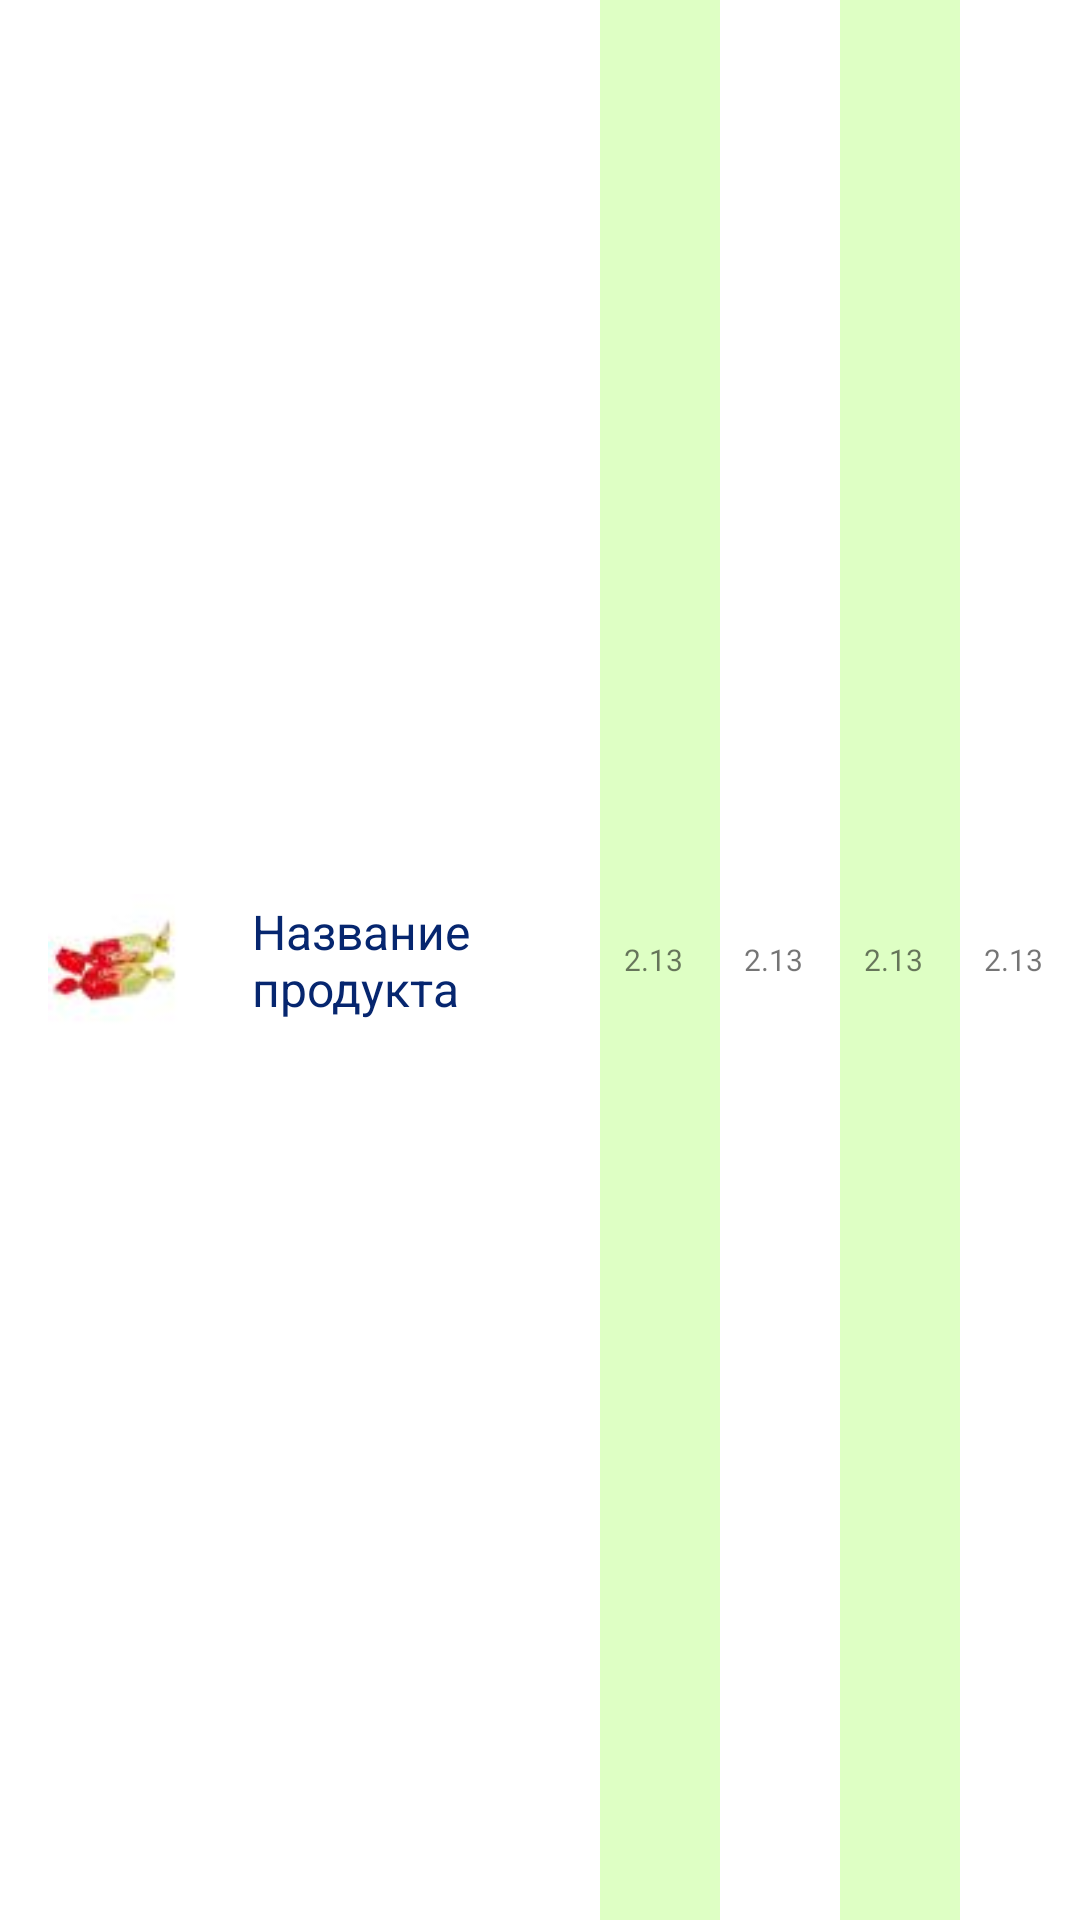

Icons on this 1080 x 1920 Android screen, each with the point to tap as (x,y):
food: (111,961)
